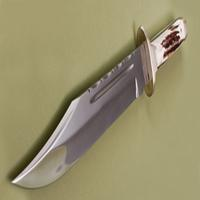knife: (10, 12, 190, 194)
